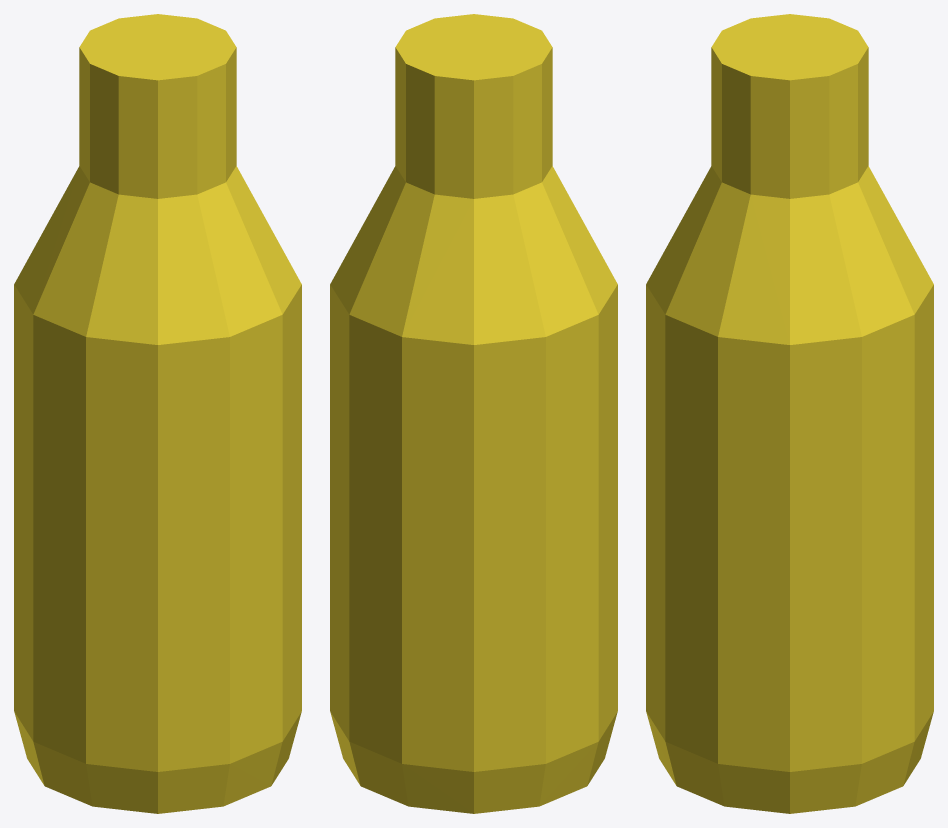
Rendered from oil_bottle.obj.
The picture shows the model from 3 angles, left to right: view 1: azimuth 30°, elevation 25°; view 2: azimuth 150°, elevation 25°; view 3: azimuth 270°, elevation 25°; orthographic projection.
Visible parts, largest first — view 1: oil_bottle; view 2: oil_bottle; view 3: oil_bottle.
Boxes of the visible parts, box(x1,y1,x2,y2) form: oil_bottle: box(14, 14, 301, 813); oil_bottle: box(330, 14, 617, 813); oil_bottle: box(646, 14, 933, 813).
Bounding box in the file's own units: 0.11 × 0.3 × 0.11.
